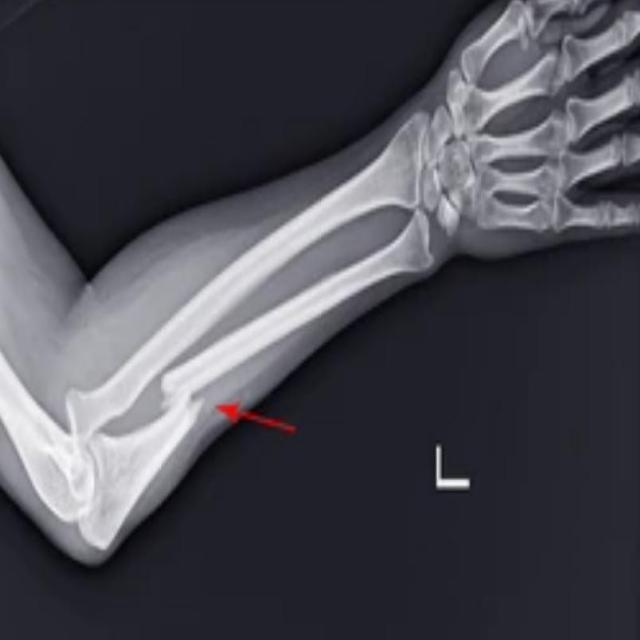bone: (154, 352, 214, 446)
